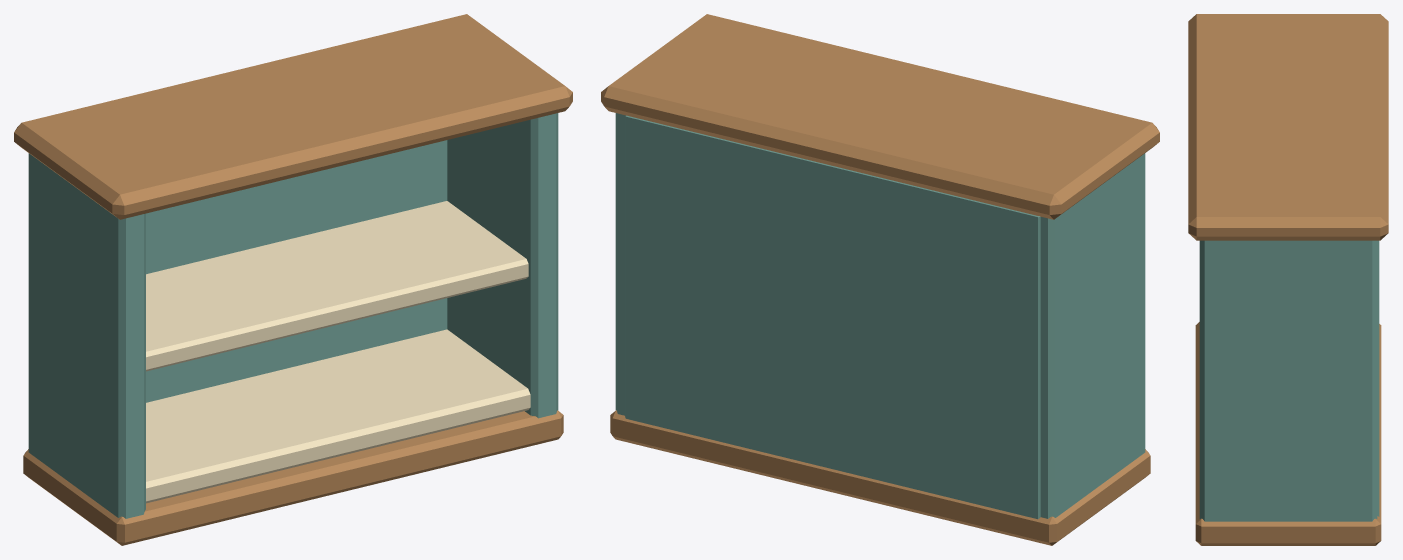
The picture shows the model from 3 angles, left to right: view 1: azimuth 30°, elevation 25°; view 2: azimuth 150°, elevation 25°; view 3: azimuth 270°, elevation 25°; orthographic projection. The views are drawn at different scales.
Parts seen in each view (by area): view 1: dining-service-counter-01; view 2: dining-service-counter-01; view 3: dining-service-counter-01.
Part boxes in pixels (x1,y1,x2,y2): dining-service-counter-01: (14, 14, 572, 545); dining-service-counter-01: (601, 14, 1159, 545); dining-service-counter-01: (1188, 14, 1388, 545).
Size of the model in its own units: 1.34 by 0.985 by 0.54.
